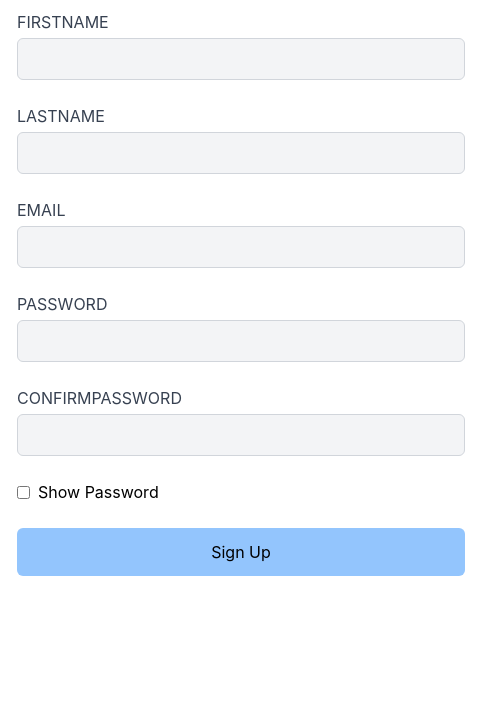
Test: validation error message is shown when form is submitted with invalid first name
Step 1. Type "Test!!" into the field with test id "firstname" → coordinates (241, 59), box [17, 38, 465, 80]
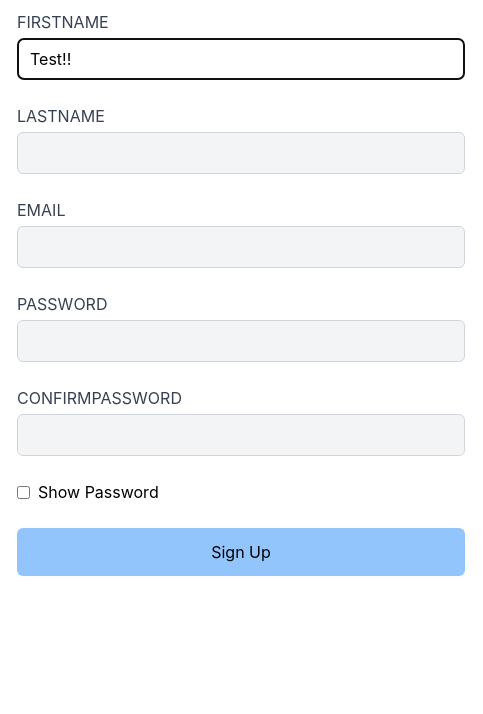
Step 2. Click the button with test id "signupbutton" → coordinates (241, 552), box [17, 528, 465, 576]
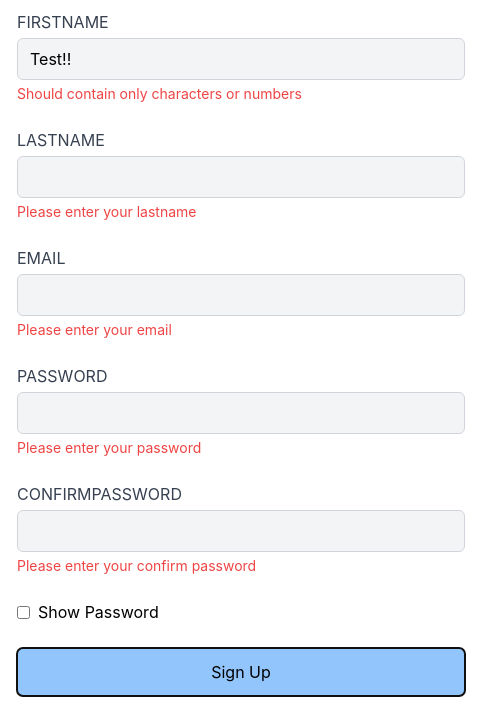
Result: the text "Should contain only characters or numbers" is shown at [17, 85, 302, 102]
